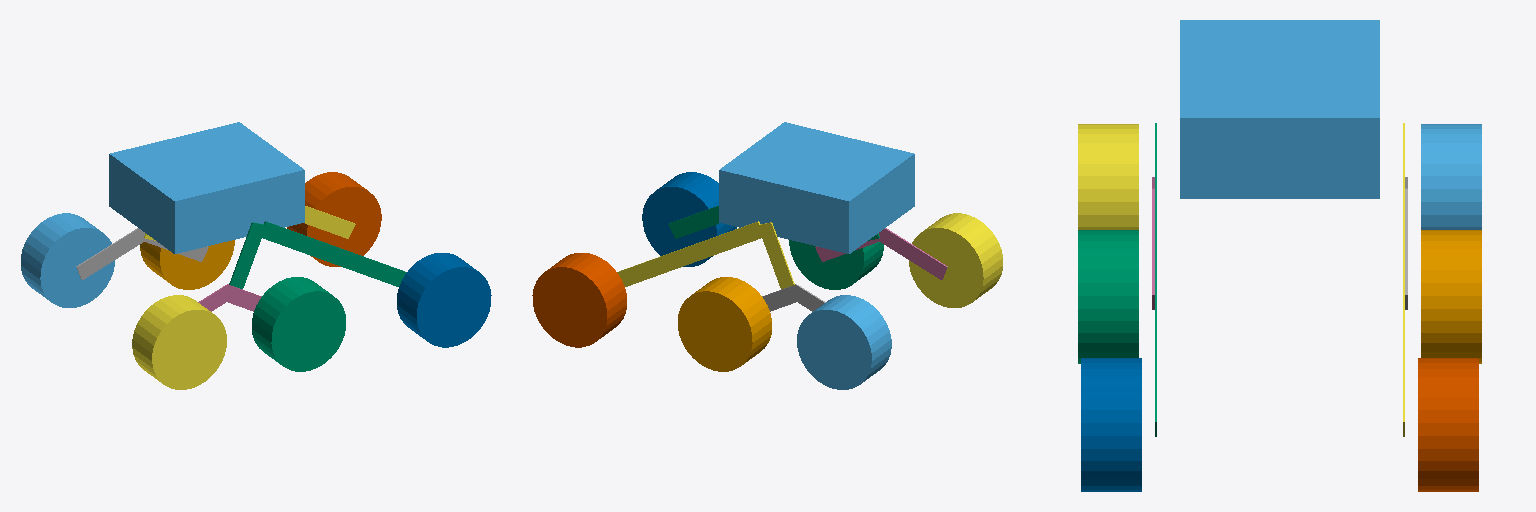
URDF robot description (simple_rover):
<robot
  name="simple_rover">
  <link name="base_link" />
  <joint name="base_link_to_body_link" type="fixed">
    <parent link="base_link"/>
    <child link="body_link"/>
  </joint>
  <link
    name="body_link">
    <inertial>
      <origin
        xyz="0.0 0.0 2"
        rpy="0 0 0" />
      <mass
        value="0.1" />
      <inertia
        ixx="0.110219194515471"
        ixy="0.0184184696712983"
        ixz="5.50641462037452E-16"
        iyy="0.232127501030259"
        iyz="3.13065611806685E-15"
        izz="0.164776567925145" />
    </inertial>
    <visual>
      <origin
        xyz="0 0 0"
        rpy="0 0 0" />
      <geometry>
        <box size = ".515 .448 .2" />
      </geometry>
    </visual>
    <collision>
      <origin
        xyz="0 0 0"
        rpy="0 0 0" />
      <geometry>
        <box size = ".515 .448 .2" />
      </geometry>
    </collision>
  </link>

  <link
    name="left_rocker_link">
    <inertial>
      <origin
        xyz="-0.234329240297601 -0.137001497213899 0.00317500000000011"
        rpy="0 0 0" />
      <mass
        value="0.249259082823854" />
      <inertia
        ixx="0"
        ixy="0"
        ixz="0"
        iyy="0"
        iyz="0"
        izz="0" />
    </inertial>
    <visual>
      <origin
        xyz=".376475 0 0"
        rpy="0 0 0" />
      <geometry>
        <box size = ".780 .00635 .05876" />
      </geometry>
    </visual>
    <collision>
      <origin
        xyz=".376475 0 0"
        rpy="0 0 0" />
      <geometry>
        <box size = ".780 .00635 .05876" />
      </geometry>
    </collision>
    <visual>
      <origin
        xyz="-0.01581739 0 -0.12489"
        rpy="0 -1.69677 0" />
      <geometry>
        <box size = ".280 .00635 .05876" />
      </geometry>
    </visual>
    <collision>
      <origin
        xyz="-0.01581739 0 -0.12489"
        rpy="0 -1.69677 0" />
      <geometry>
        <box size = ".280 .00635 .05876" />
      </geometry>
    </collision>
  </link>

  <joint
    name="left_rocker_joint"
    type="revolute">
    <origin
      xyz="0.06861 -0.276585 -0.06254"
      rpy="0 0.5236 0" />
    <parent
      link="body_link" />
    <child
      link="left_rocker_link" />
    <axis
      xyz="0 1 0" />
    <limit
      lower="-1.0472"
      upper="1.0472"
      effort="0"
      velocity="0" />
  </joint>

  <link
    name="right_rocker_link">
    <inertial>
      <origin
        xyz="-0.234329240297601 -0.137001497213899 0.00317500000000011"
        rpy="0 0 0" />
      <mass
        value="0.249259082823854" />
      <inertia
        ixx="0"
        ixy="0"
        ixz="0"
        iyy="0"
        iyz="0"
        izz="0" />
    </inertial>
    <visual>
      <origin
        xyz=".376475 0 0"
        rpy="0 0 0" />
      <geometry>
        <box size = ".780 .00635 .05876" />
      </geometry>
    </visual>
    <collision>
      <origin
        xyz=".376475 0 0"
        rpy="0 0 0" />
      <geometry>
        <box size = ".780 .00635 .05876" />
      </geometry>
    </collision>
    <visual>
      <origin
        xyz="-0.01581739 0 -0.12489"
        rpy="0 -1.69677 0" />
      <geometry>
        <box size = ".280 .00635 .05876" />
      </geometry>
    </visual>
    <collision>
      <origin
        xyz="-0.01581739 0 -0.12489"
        rpy="0 -1.69677 0" />
      <geometry>
        <box size = ".280 .00635 .05876" />
      </geometry>
    </collision>
  </link>

  <joint
    name="right_rocker_joint"
    type="revolute">
    <origin
      xyz="0.06861 0.276585 -0.06254"
      rpy="0 0.5236 0" />
    <parent
      link="base_link" />
    <child
      link="right_rocker_link" />
    <axis
      xyz="0 1 0" />
    <limit
      lower="-1.0472"
      upper="1.0472"
      effort="0"
      velocity="0" />
  </joint>

  <link
    name="left_front_wheel_link">
    <inertial>
      <origin
        xyz="0 0 0"
        rpy="0 0 0" />
      <mass
        value="5.28366197630003" />
      <inertia
        ixx="0"
        ixy="0"
        ixz="0"
        iyy="0"
        iyz="0"
        izz="0" />
    </inertial>
    <visual>
      <origin
        xyz="0 0 0"
        rpy="1.5708 0 0" />
      <geometry>
        <cylinder length=".1366" radius=".14879"/>
      </geometry>
    </visual>
    <collision>
      <origin
        xyz="0 0 0"
        rpy="1.5708 0 0" />
      <geometry>
        <cylinder length=".1366" radius=".14879"/>
      </geometry>
    </collision>
  </link>

  <joint
    name="left_front_wheel_joint"
    type="continuous">
    <origin
      xyz=".75295 -0.099925 0"
      rpy="0 0 0" />
    <parent
      link="left_rocker_link" />
    <child
      link="left_front_wheel_link" />
    <axis
      xyz="0 1 0" />
  </joint>

  <link
    name="right_front_wheel_link">
    <inertial>
      <origin
        xyz="0 0 0"
        rpy="0 0 0" />
      <mass
        value="5.28366197630003" />
      <inertia
        ixx="0"
        ixy="0"
        ixz="0"
        iyy="0"
        iyz="0"
        izz="0" />
    </inertial>
    <visual>
      <origin
        xyz="0 0 0"
        rpy="1.5708 0 0" />
      <geometry>
        <cylinder length=".1366" radius=".14879"/>
      </geometry>

    </visual>
    <collision>
      <origin
        xyz="0 0 0"
        rpy="1.5708 0 0" />
      <geometry>
        <cylinder length=".1366" radius=".14879"/>
      </geometry>
    </collision>
  </link>

  <joint
    name="right_front_wheel_joint"
    type="continuous">
    <origin
      xyz=".75295 0.099925 0"
      rpy="0 0 0" />
    <parent
      link="right_rocker_link" />
    <child
      link="right_front_wheel_link" />
    <axis
      xyz="0 1 0" />
  </joint>

  <link
    name="left_bogie_link">
    <inertial>
      <origin
        xyz="-1.85962356624714E-15 -0.0509936533690532 -0.00317500000001342"
        rpy="0 0 0" />
      <mass
        value="0.132129874228365" />
      <inertia
        ixx="0"
        ixy="0"
        ixz="0"
        iyy="0"
        iyz="0"
        izz="0" />
    </inertial>
    <visual>
      <origin
        xyz=".130825 0 0"
        rpy="0 0 0" />
      <geometry>
        <box size = ".290 .00635 .05876" />
      </geometry>
    </visual>
    <collision>
      <origin
        xyz="0 0 0"
        rpy="0 0 0" />
      <geometry>
        <box size = ".290 .00635 .05876" />
      </geometry>
    </collision>
    <visual>
      <origin
        xyz="-0.08408305 0 -0.10020627"
        rpy="0 -0.87266 0" />
      <geometry>
        <box size = ".290 .00635 .05876" />
      </geometry>
    </visual>
    <collision>
      <origin
        xyz="-0.08408305 0 -0.10020627"
        rpy="0 -0.87266 0" />
      <geometry>
        <box size = ".290 .00635 .05876" />
      </geometry>
    </collision>
  </link>
  <joint
    name="left_bogie_joint"
    type="revolute">
    <origin
      xyz="-0.0316348 -0.00635 -0.249785" 
      rpy="0 0 0" /> 
    <parent
      link="left_rocker_link" />
    <child
      link="left_bogie_link" />
    <axis
      xyz="0 1 0" />
    <limit
      lower="-3.142"
      upper="3.142"
      effort="0"
      velocity="0" />
  </joint>

  <link
    name="right_bogie_link">
    <inertial>
      <origin
        xyz="-1.85962356624714E-15 -0.0509936533690532 -0.00317500000001342"
        rpy="0 0 0" />
      <mass
        value="0.132129874228365" />
      <inertia
        ixx="0"
        ixy="0"
        ixz="0"
        iyy="0"
        iyz="0"
        izz="0" />
    </inertial>
    <visual>
      <origin
        xyz=".130825 0 0"
        rpy="0 0 0" />
      <geometry>
        <box size = ".290 .00635 .05876" />
      </geometry>
    </visual>
    <collision>
      <origin
        xyz="0 0 0"
        rpy="0 0 0" />
      <geometry>
        <box size = ".290 .00635 .05876" />
      </geometry>
    </collision>
    <visual>
      <origin
        xyz="-0.08408305 0 -0.10020627"
        rpy="0 -0.87266 0" />
      <geometry>
        <box size = ".290 .00635 .05876" />
      </geometry>
    </visual>
    <collision>
      <origin
        xyz="-0.08408305 0 -0.10020627"
        rpy="0 -0.87266 0" />
      <geometry>
        <box size = ".290 .00635 .05876" />
      </geometry>
    </collision>
  </link>
  <joint
    name="right_bogie_joint"
    type="revolute">
    <origin
      xyz="-0.0316348 0.00635 -0.249785" 
      rpy="0 0 0" /> 
    <parent
      link="right_rocker_link" />
    <child
      link="right_bogie_link" />
    <axis
      xyz="0 1 0" />
    <limit
      lower="-3.142"
      upper="3.142"
      effort="0"
      velocity="0" />
  </joint>

  <link
    name="right_middle_wheel_link">
    <inertial>
      <origin
        xyz="0 0 0"
        rpy="0 0 0" />
      <mass
        value="5.28366197630003" />
      <inertia
        ixx="0"
        ixy="0"
        ixz="0"
        iyy="0"
        iyz="0"
        izz="0" />
    </inertial>
    <visual>
      <origin
        xyz="0 0 0"
        rpy="1.5708 0 0" />
      <geometry>
        <cylinder length=".1366" radius=".14879"/>
      </geometry>

    </visual>
    <collision>
      <origin
        xyz="0 0 0"
        rpy="1.5708 0 0" />
      <geometry>
        <cylinder length=".1366" radius=".14879"/>
      </geometry>
    </collision>
  </link>

  <joint
    name="right_middle_wheel_joint"
    type="continuous">
    <origin
      xyz=".26165 0.099925 0"
      rpy="0 0 0" />
    <parent
      link="right_bogie_link" />
    <child
      link="right_middle_wheel_link" />
    <axis
      xyz="0 1 0" />
  </joint>

  <link
    name="right_rear_wheel_link">
    <inertial>
      <origin
        xyz="0 0 0"
        rpy="0 0 0" />
      <mass
        value="5.28366197630003" />
      <inertia
        ixx="0"
        ixy="0"
        ixz="0"
        iyy="0"
        iyz="0"
        izz="0" />
    </inertial>
    <visual>
      <origin
        xyz="0 0 0"
        rpy="1.5708 0 0" />
      <geometry>
        <cylinder length=".1366" radius=".14879"/>
      </geometry>

    </visual>
    <collision>
      <origin
        xyz="0 0 0"
        rpy="1.5708 0 0" />
      <geometry>
        <cylinder length=".1366" radius=".14879"/>
      </geometry>
    </collision>
  </link>

  <joint
    name="right_rear_wheel_joint"
    type="continuous">
    <origin
      xyz="-0.16817 0.099925 -0.20041"
      rpy="0 0 0" />
    <parent
      link="right_bogie_link" />
    <child
      link="right_rear_wheel_link" />
    <axis
      xyz="0 1 0" />
  </joint>

  <link
    name="left_middle_wheel_link">
    <inertial>
      <origin
        xyz="0 0 0"
        rpy="0 0 0" />
      <mass
        value="5.28366197630003" />
      <inertia
        ixx="0"
        ixy="0"
        ixz="0"
        iyy="0"
        iyz="0"
        izz="0" />
    </inertial>
    <visual>
      <origin
        xyz="0 0 0"
        rpy="1.5708 0 0" />
      <geometry>
        <cylinder length=".1366" radius=".14879"/>
      </geometry>

    </visual>
    <collision>
      <origin
        xyz="0 0 0"
        rpy="1.5708 0 0" />
      <geometry>
        <cylinder length=".1366" radius=".14879"/>
      </geometry>
    </collision>
  </link>

  <joint
    name="left_middle_wheel_joint"
    type="continuous">
    <origin
      xyz=".26165 -0.099925 0"
      rpy="0 0 0" />
    <parent
      link="left_bogie_link" />
    <child
      link="left_middle_wheel_link" />
    <axis
      xyz="0 1 0" />
  </joint>

  <link
    name="left_rear_wheel_link">
    <inertial>
      <origin
        xyz="0 0 0"
        rpy="0 0 0" />
      <mass
        value="5.28366197630003" />
      <inertia
        ixx="0"
        ixy="0"
        ixz="0"
        iyy="0"
        iyz="0"
        izz="0" />
    </inertial>
    <visual>
      <origin
        xyz="0 0 0"
        rpy="1.5708 0 0" />
      <geometry>
        <cylinder length=".1366" radius=".14879"/>
      </geometry>

    </visual>
    <collision>
      <origin
        xyz="0 0 0"
        rpy="1.5708 0 0" />
      <geometry>
        <cylinder length=".1366" radius=".14879"/>
      </geometry>
    </collision>
  </link>

  <joint
    name="left_rear_wheel_joint"
    type="continuous">
    <origin
      xyz="-0.16817 -0.099925 -0.20041"
      rpy="0 0 0" />
    <parent
      link="left_bogie_link" />
    <child
      link="left_rear_wheel_link" />
    <axis
      xyz="0 1 0" />
  </joint>
</robot>

--- Facts derived from the render (not from the file) ---
3 views of the same robot in one strip: view 1: azimuth 30°, elevation 25°; view 2: azimuth 150°, elevation 25°; view 3: azimuth 270°, elevation 25° (orthographic).
Robot: simple_rover — 12 links, 11 joints (4 revolute, 6 continuous, 1 fixed); root link base_link; default pose: every joint at zero.
Visible links, largest first — view 1: body_link, left_rear_wheel_link, left_front_wheel_link, left_middle_wheel_link, right_rear_wheel_link, right_front_wheel_link, left_rocker_link, right_middle_wheel_link, right_bogie_link, left_bogie_link, right_rocker_link; view 2: body_link, right_rear_wheel_link, right_front_wheel_link, right_middle_wheel_link, left_rear_wheel_link, left_front_wheel_link, right_rocker_link, left_middle_wheel_link, left_bogie_link, right_bogie_link, left_rocker_link; view 3: body_link, left_front_wheel_link, right_front_wheel_link, right_middle_wheel_link, left_middle_wheel_link, right_rear_wheel_link, left_rear_wheel_link, left_rocker_link, right_rocker_link.
Link boxes in pixels (x1,y1,x2,y2): body_link: [109, 122, 304, 253]; left_rear_wheel_link: [132, 295, 226, 389]; left_front_wheel_link: [397, 253, 491, 347]; left_middle_wheel_link: [252, 277, 345, 371]; right_rear_wheel_link: [21, 213, 114, 307]; right_front_wheel_link: [287, 172, 381, 266]; left_rocker_link: [229, 221, 406, 288]; right_middle_wheel_link: [140, 240, 234, 289]; right_bogie_link: [76, 228, 208, 279]; left_bogie_link: [198, 284, 261, 311]; right_rocker_link: [144, 206, 355, 240]; body_link: [719, 122, 914, 253]; right_rear_wheel_link: [797, 295, 891, 389]; right_front_wheel_link: [532, 253, 626, 347]; right_middle_wheel_link: [678, 277, 771, 371]; left_rear_wheel_link: [909, 213, 1002, 307]; left_front_wheel_link: [642, 172, 736, 266]; right_rocker_link: [617, 221, 794, 288]; left_middle_wheel_link: [789, 240, 883, 289]; left_bogie_link: [815, 228, 947, 279]; right_bogie_link: [762, 284, 825, 311]; left_rocker_link: [668, 206, 879, 240]; body_link: [1180, 20, 1379, 198]; left_front_wheel_link: [1081, 358, 1141, 491]; right_front_wheel_link: [1418, 358, 1478, 491]; right_middle_wheel_link: [1421, 230, 1481, 363]; left_middle_wheel_link: [1078, 230, 1138, 363]; right_rear_wheel_link: [1421, 124, 1481, 229]; left_rear_wheel_link: [1078, 124, 1138, 229]; left_rocker_link: [1155, 123, 1156, 436]; right_rocker_link: [1403, 123, 1404, 436].
Size in the robot's own frame: 1.35 by 0.9023 by 0.6875 metres.
Geometry: primitives only (box / cylinder / sphere), no mesh files.